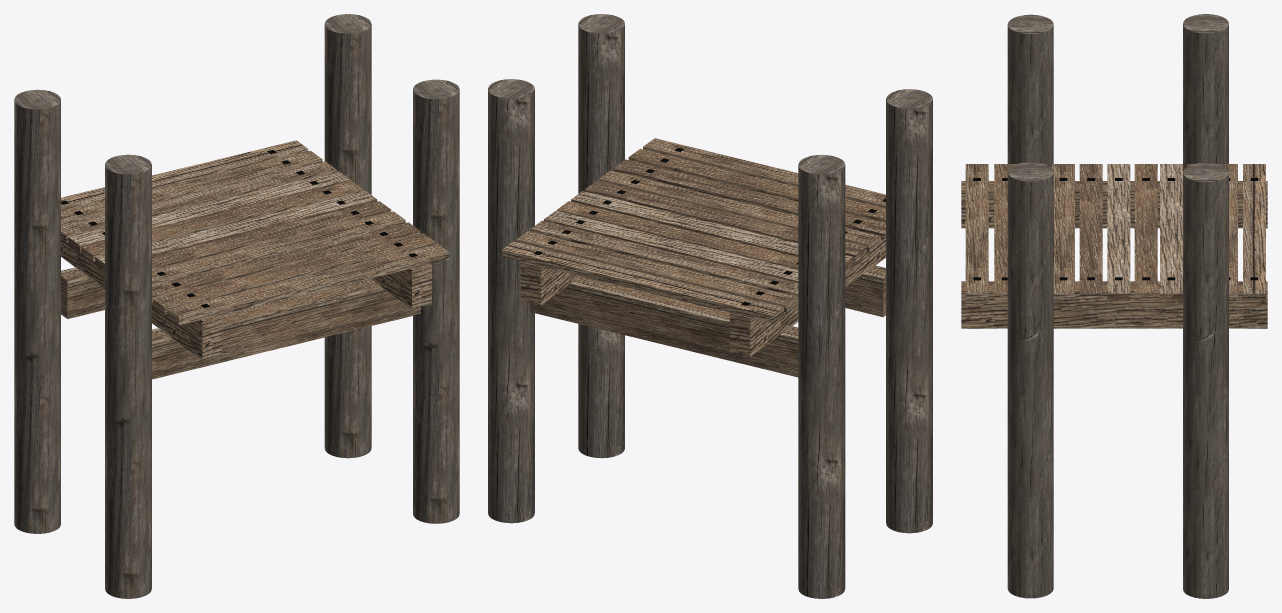
The model's file is KitPlataformaMaderas.fbx.
The picture shows the model from 3 angles, left to right: view 1: azimuth 30°, elevation 25°; view 2: azimuth 150°, elevation 25°; view 3: azimuth 270°, elevation 25°; orthographic projection.
Visible parts, largest first — view 1: Plataforma 4 x 4, Columna 6 x 0.002, Columna 6 x 0.004, Columna 6 x 0.001, Columna 6 x 0.3, Viga 4 x0.3, viga 4 x 0. 3; view 2: Plataforma 4 x 4, Columna 6 x 0.004, Columna 6 x 0.002, Columna 6 x 0.3, Columna 6 x 0.001, viga 4 x 0. 3, Viga 4 x0.3; view 3: Plataforma 4 x 4, Columna 6 x 0.001, Columna 6 x 0.3, Columna 6 x 0.002, Columna 6 x 0.004.
Boxes of the visible parts, box(x1,y1,x2,y2) form: Plataforma 4 x 4: box(61, 140, 449, 359); Columna 6 x 0.002: box(105, 154, 151, 598); Columna 6 x 0.004: box(14, 89, 60, 533); Columna 6 x 0.001: box(413, 79, 459, 523); Columna 6 x 0.3: box(324, 14, 371, 458); Viga 4 x0.3: box(152, 278, 420, 379); viga 4 x 0. 3: box(61, 267, 104, 318); Plataforma 4 x 4: box(502, 138, 885, 356); Columna 6 x 0.004: box(798, 154, 845, 598); Columna 6 x 0.002: box(886, 89, 932, 533); Columna 6 x 0.3: box(488, 79, 534, 523); Columna 6 x 0.001: box(578, 14, 624, 458); viga 4 x 0. 3: box(530, 276, 798, 377); Viga 4 x0.3: box(845, 265, 885, 317); Plataforma 4 x 4: box(961, 164, 1267, 328); Columna 6 x 0.001: box(1007, 162, 1053, 598); Columna 6 x 0.3: box(1183, 162, 1228, 598); Columna 6 x 0.002: box(1007, 14, 1053, 167); Columna 6 x 0.004: box(1183, 14, 1228, 171).
Size of the model in its own units: 519 by 600 by 400.
Materials: 3 (2 with a texture image).
